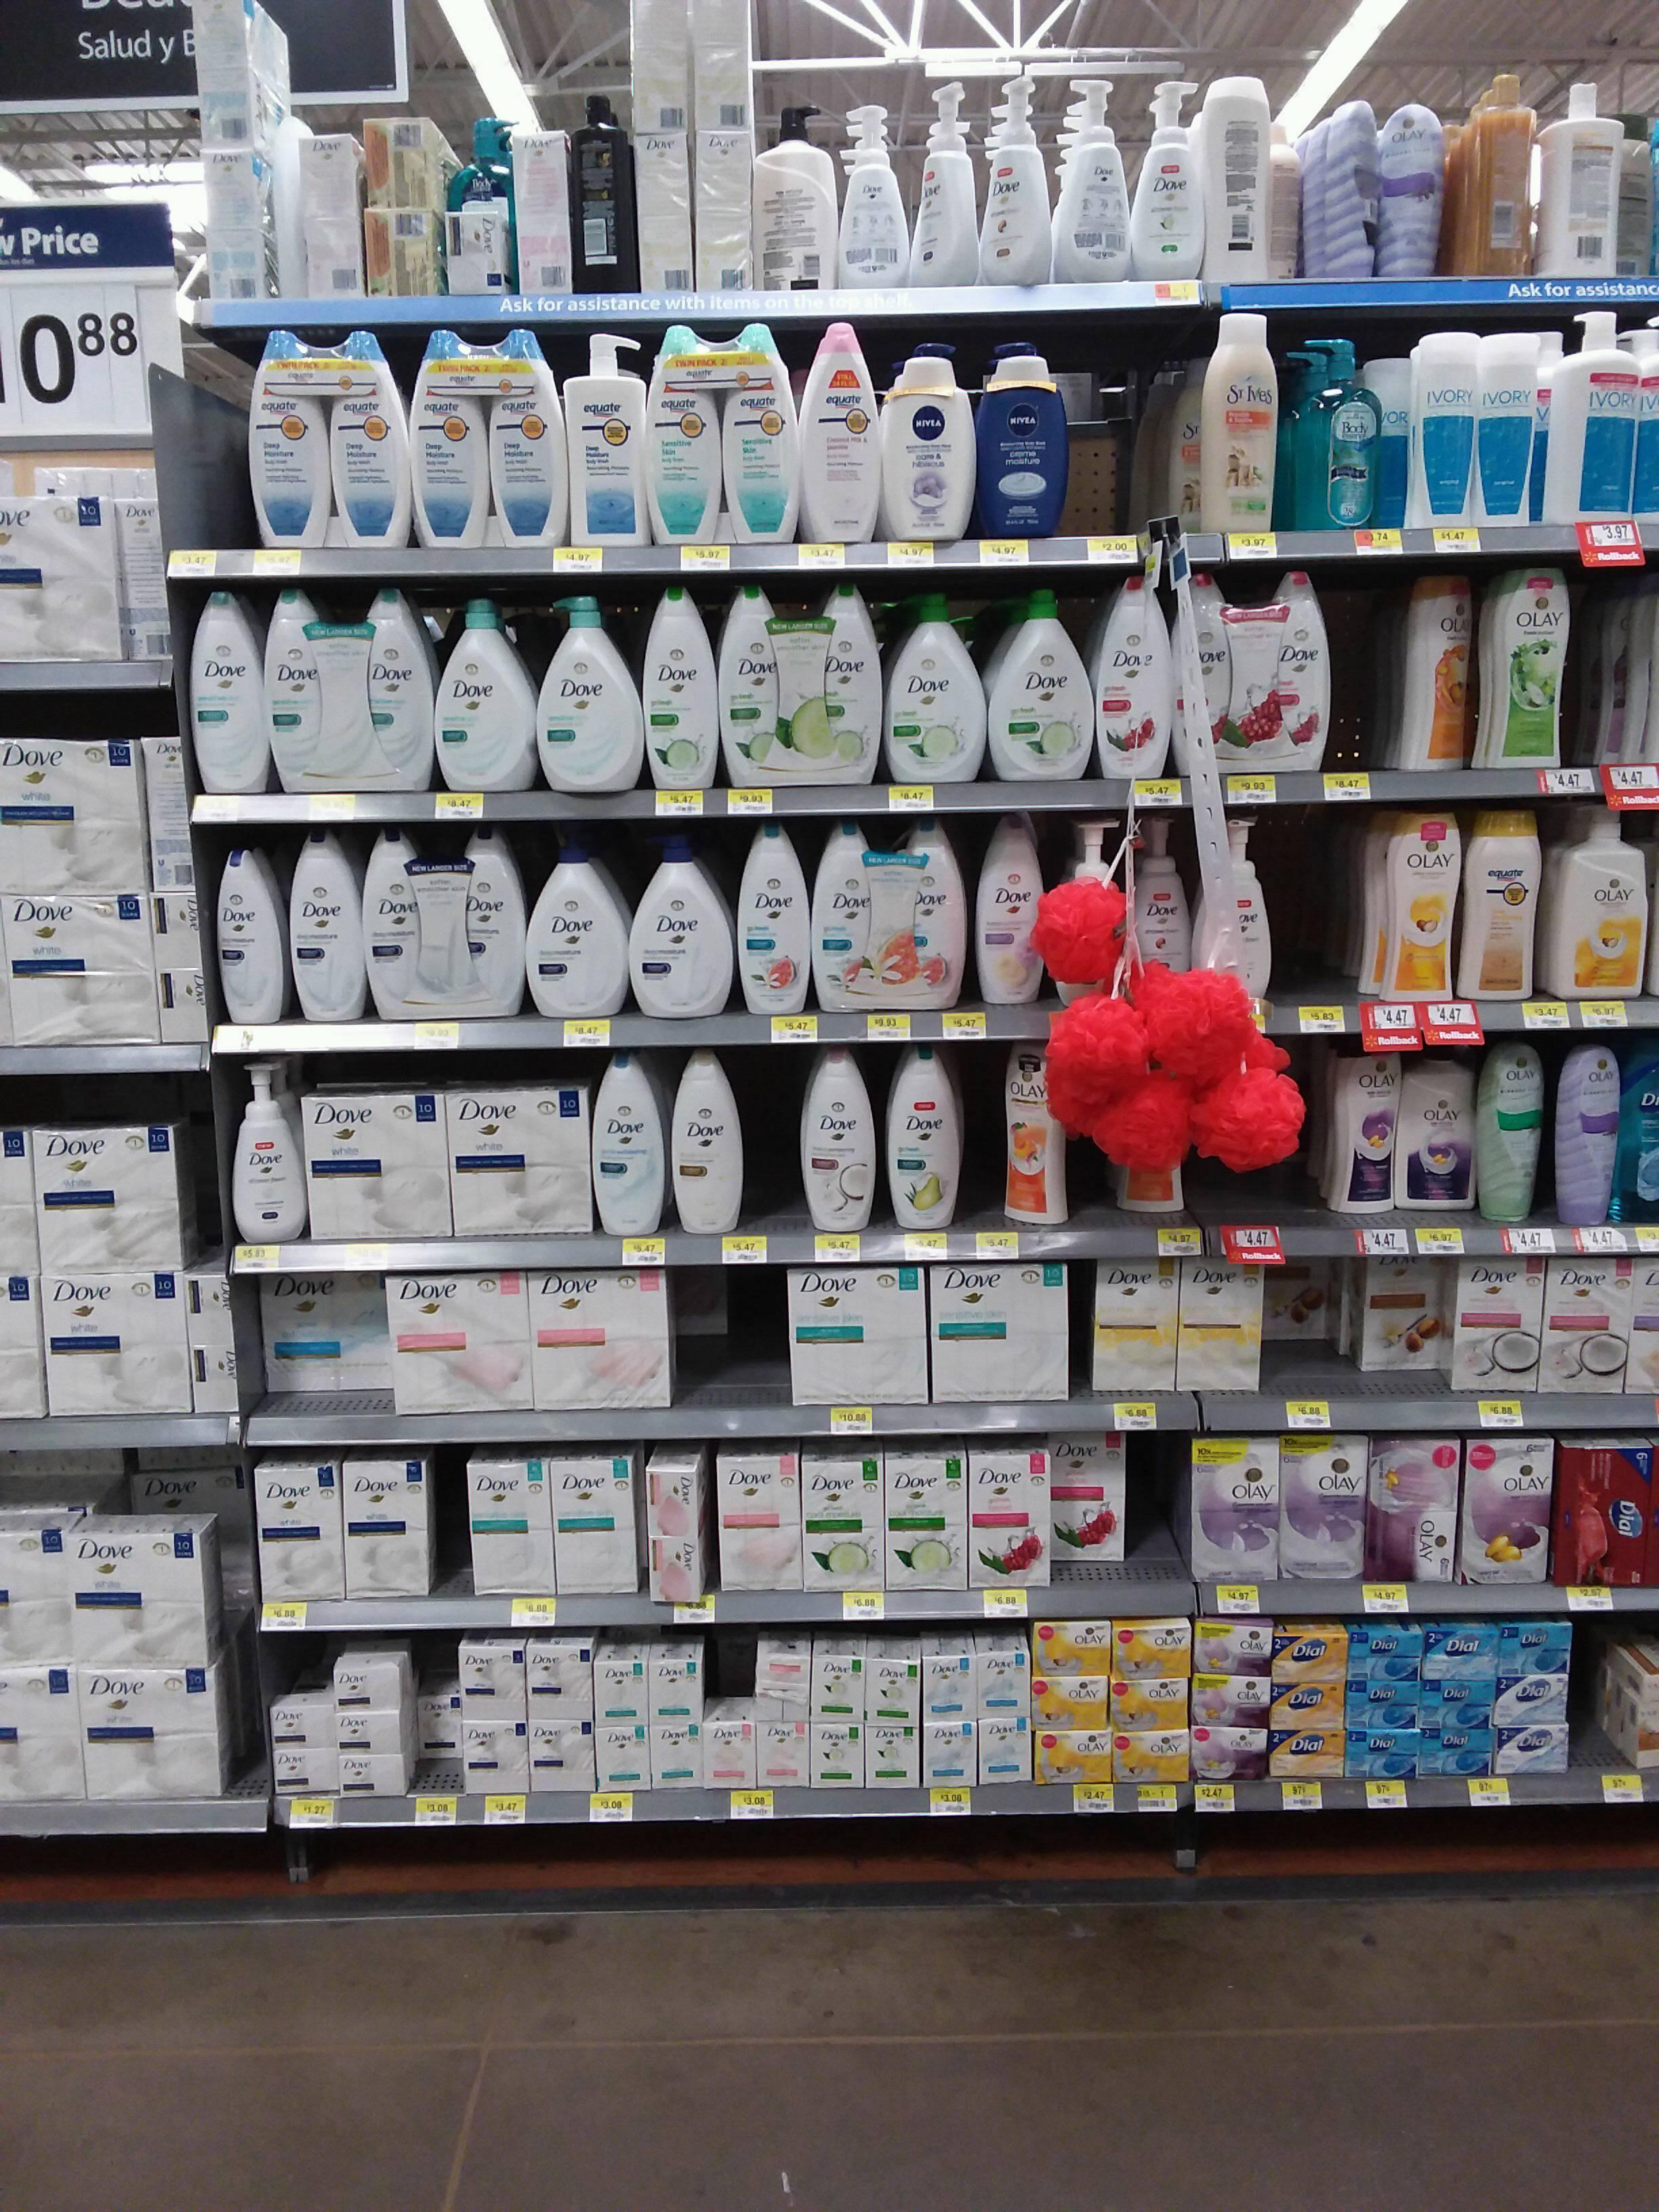empty: (678, 1268, 796, 1407), (1066, 366, 1155, 542), (1276, 822, 1359, 1003), (1324, 587, 1408, 768), (1260, 1263, 1352, 1397), (1094, 1446, 1187, 1580)
